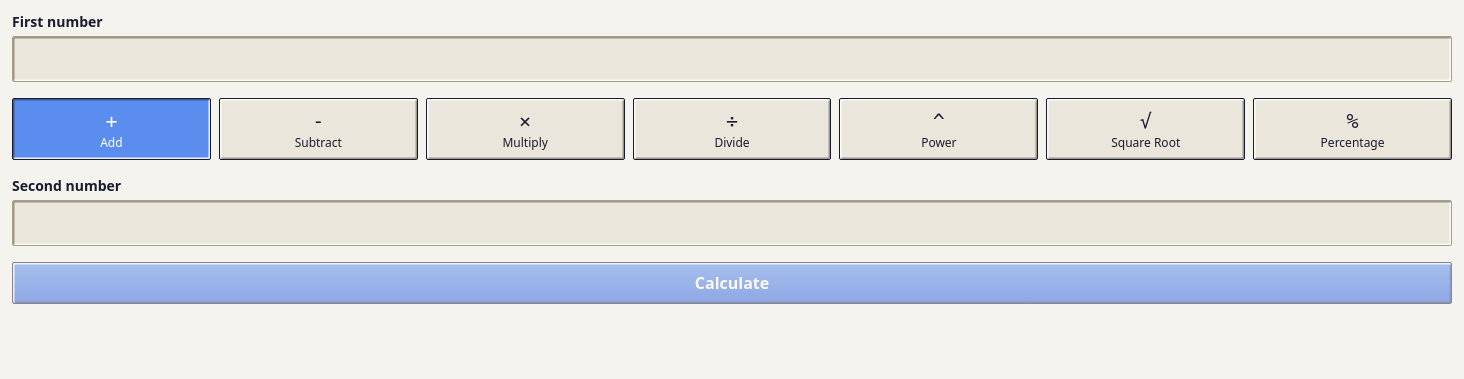
Test: Calculator › when the calculation fails › shows the message sent by the backend
Click the radio button labelled "Divide". click: point(732, 129)
box: [633,98,832,160]
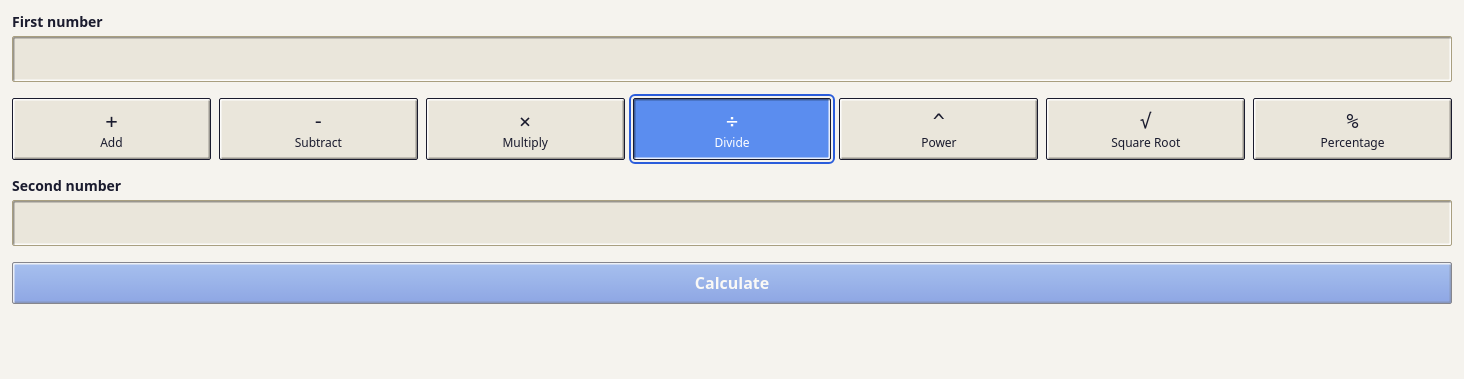
Type "5" into the field labelled "First number". click: point(732, 59)
box: [12,36,1452,82]
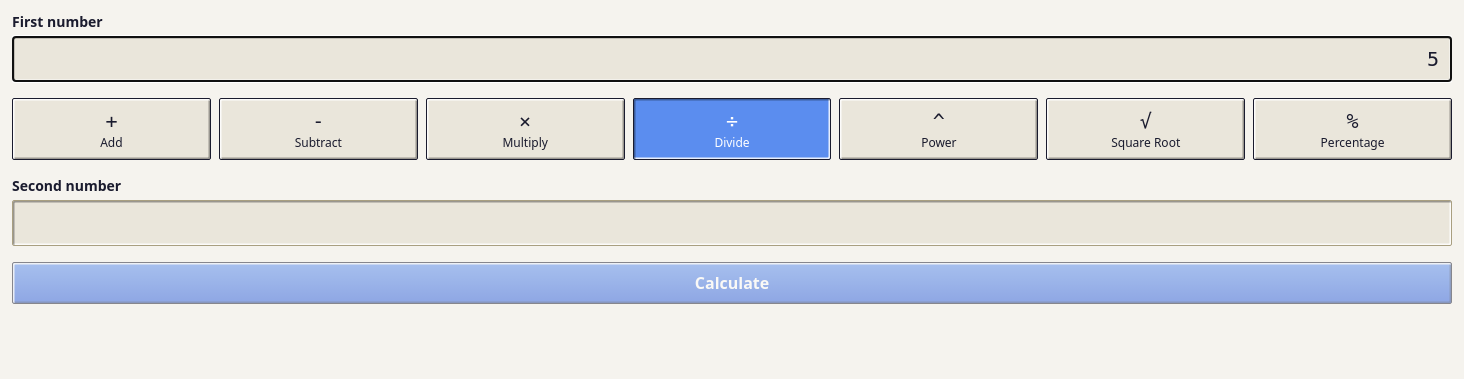
Type "0" into the field labelled "Second number". click: point(732, 223)
box: [12,200,1452,246]
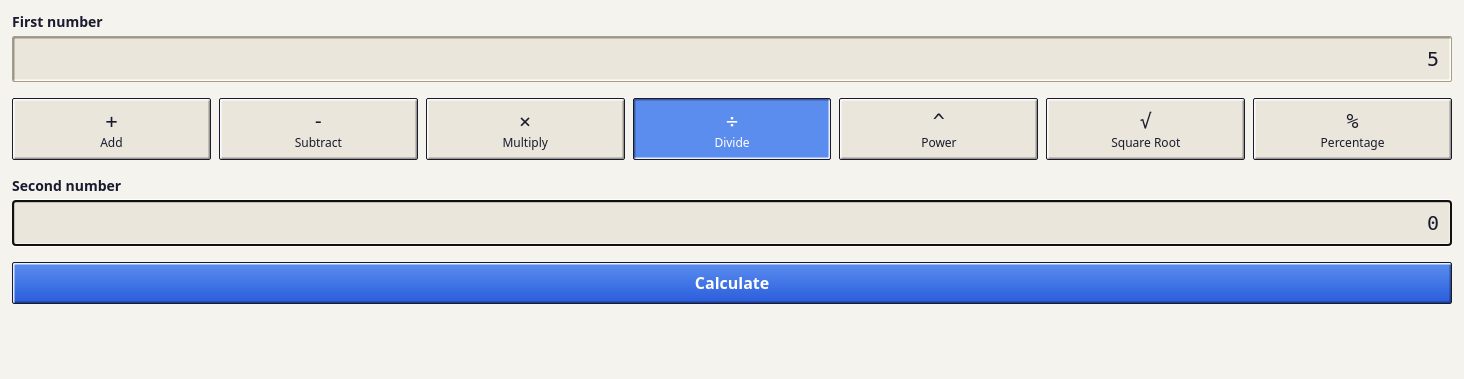
Click the button "Calculate". click: point(732, 283)
box: [12,262,1452,304]
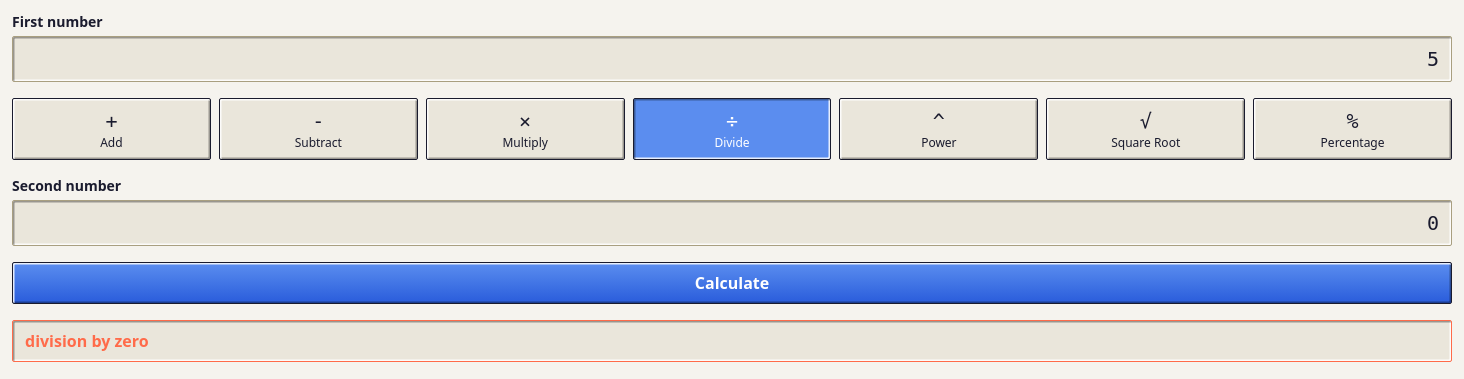
Expected: the button "Calculate" is enabled, [12,262,1452,304]
Expected: the message reads "division by zero", [25,330,149,352]
